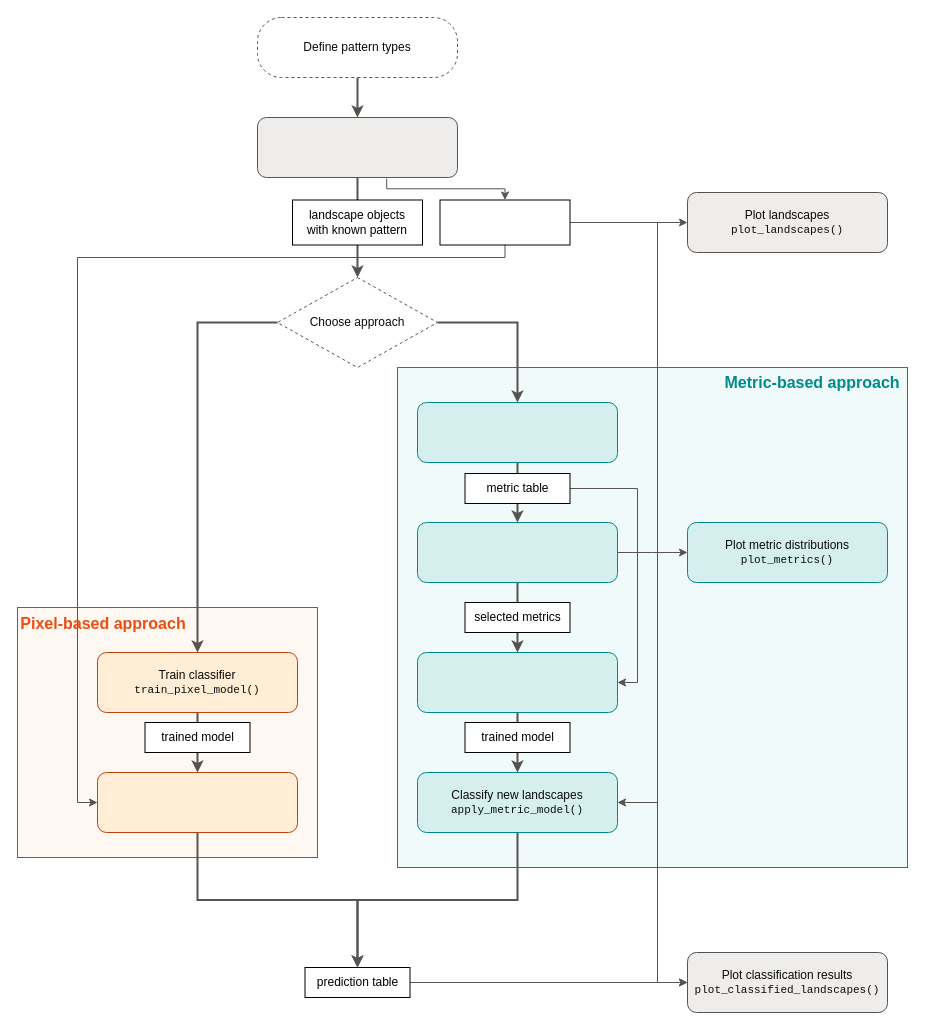
This 925x1030 diagram has some shape labels left out. Each missing label, with the centre of its shape:
Calculate metrics calculate_metrics(): point (517, 432)
Classify new landscapes apply_pixel_model(): point (197, 802)
Generate or import landscapes create_landscapes() create_landscape() landscape(): point (357, 147)
landscape objects with unknown pattern: point (504, 222)
Select informative metrics evaluate_metrics(): point (517, 552)
Train classifier train_metric_model(): point (517, 682)
